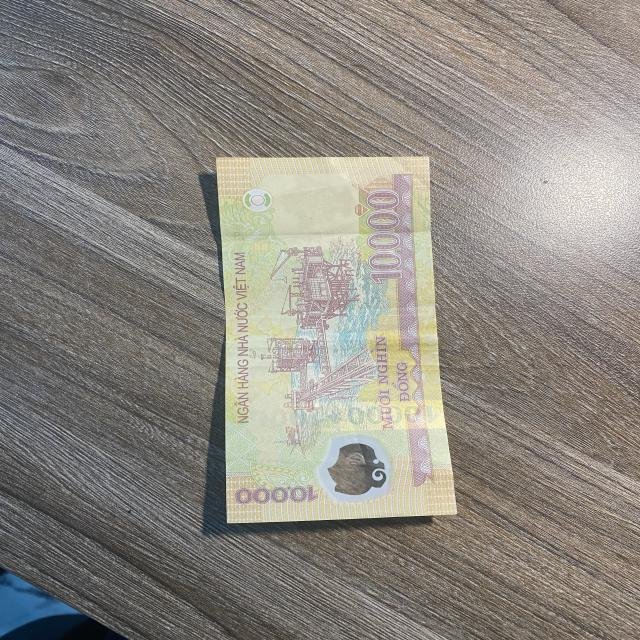10 000 VND: (213, 154, 460, 526)
